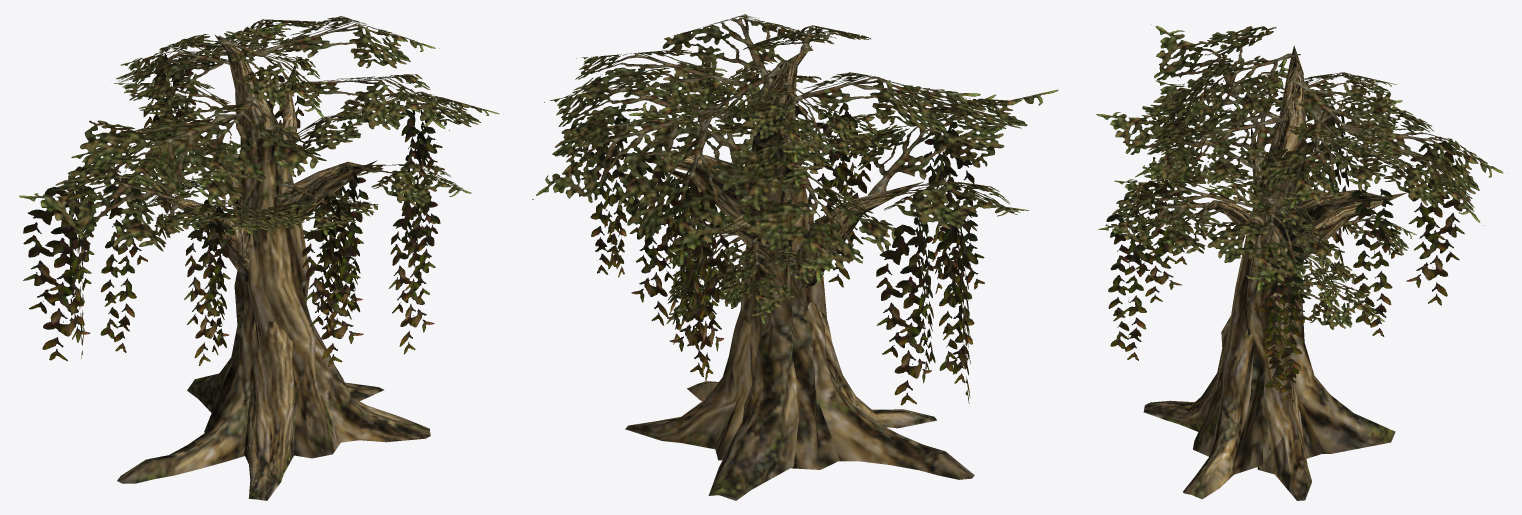
File: tree95.fbx
3 views of the same model, side by side, from view 1: azimuth 30°, elevation 25°; view 2: azimuth 150°, elevation 25°; view 3: azimuth 270°, elevation 25° (orthographic). The views are drawn at different scales.
Parts seen in each view (by area): view 1: tree95; view 2: tree95; view 3: tree95.
Part boxes in pixels (x1,y1,x2,y2): tree95: [19, 16, 499, 500]; tree95: [532, 14, 1058, 500]; tree95: [1096, 24, 1503, 500].
Bounding box in the file's own units: 3166 × 2564 × 2536.
Materials: 2 (2 with a texture image).
